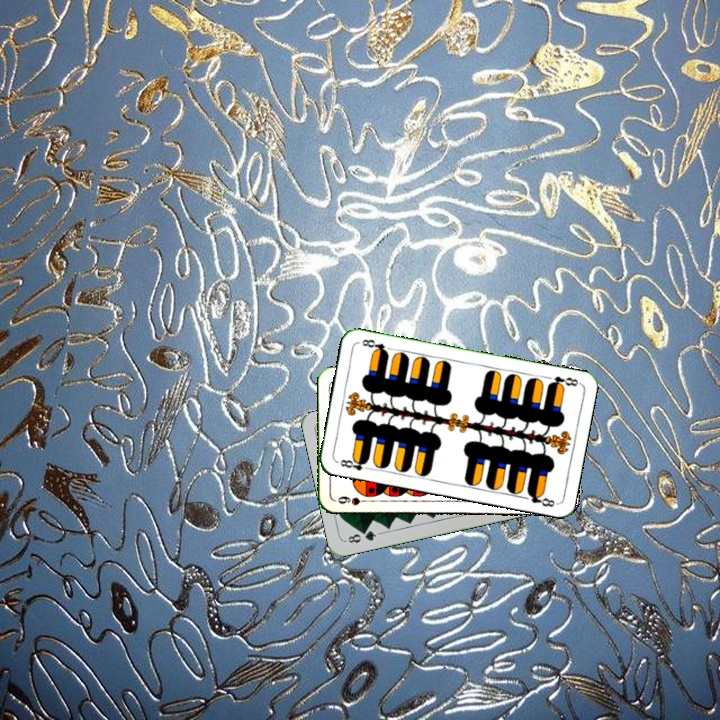E8: (336, 453, 373, 473), (544, 372, 582, 391)
G8: (342, 526, 382, 546)
S9: (334, 492, 374, 507)
